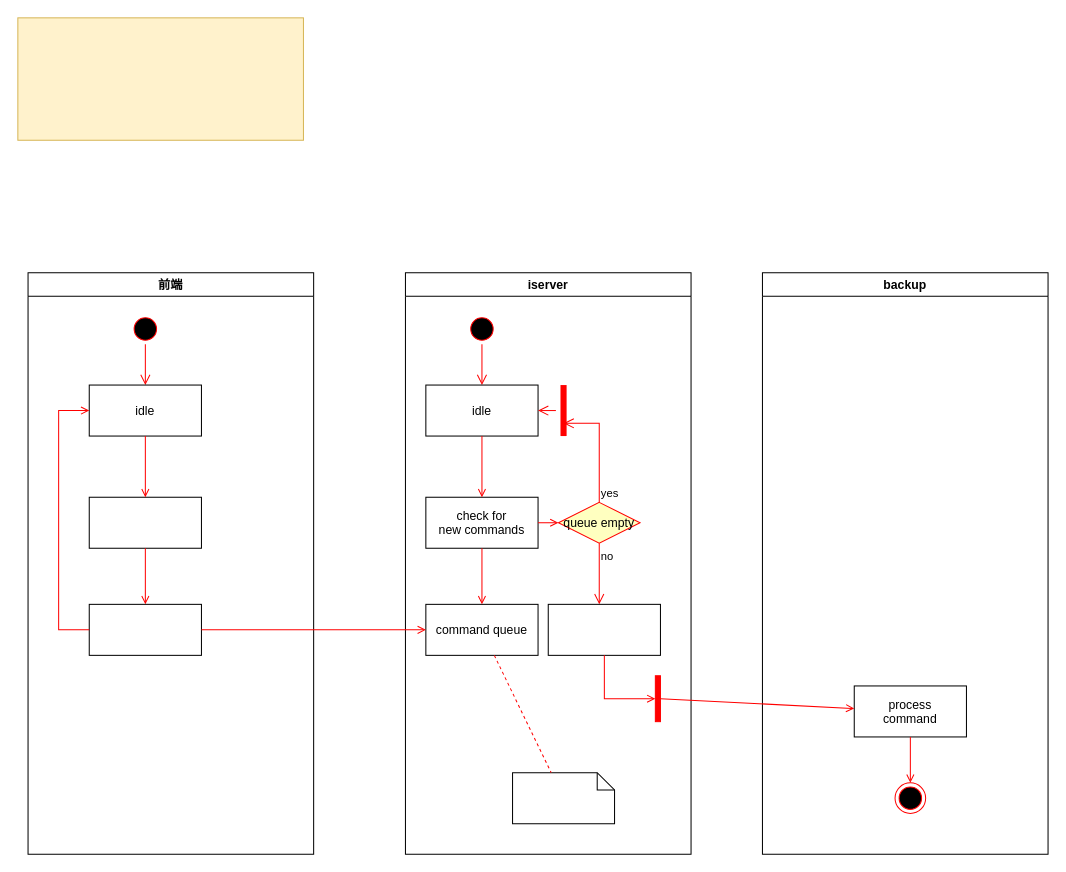
Image size: 1066x872. Some labels were removed from this diagram. The centre of each missing label's shape, as x and y in pixels:
"BimSceneConfig( 项目/单位,场景配置表)" belongs at point 160,78.
"critical section" belongs at point 563,798.
"dispatch command worker thread" belongs at point 603,629.
"post command" belongs at point 144,629.
"user action" belongs at point 144,522.
